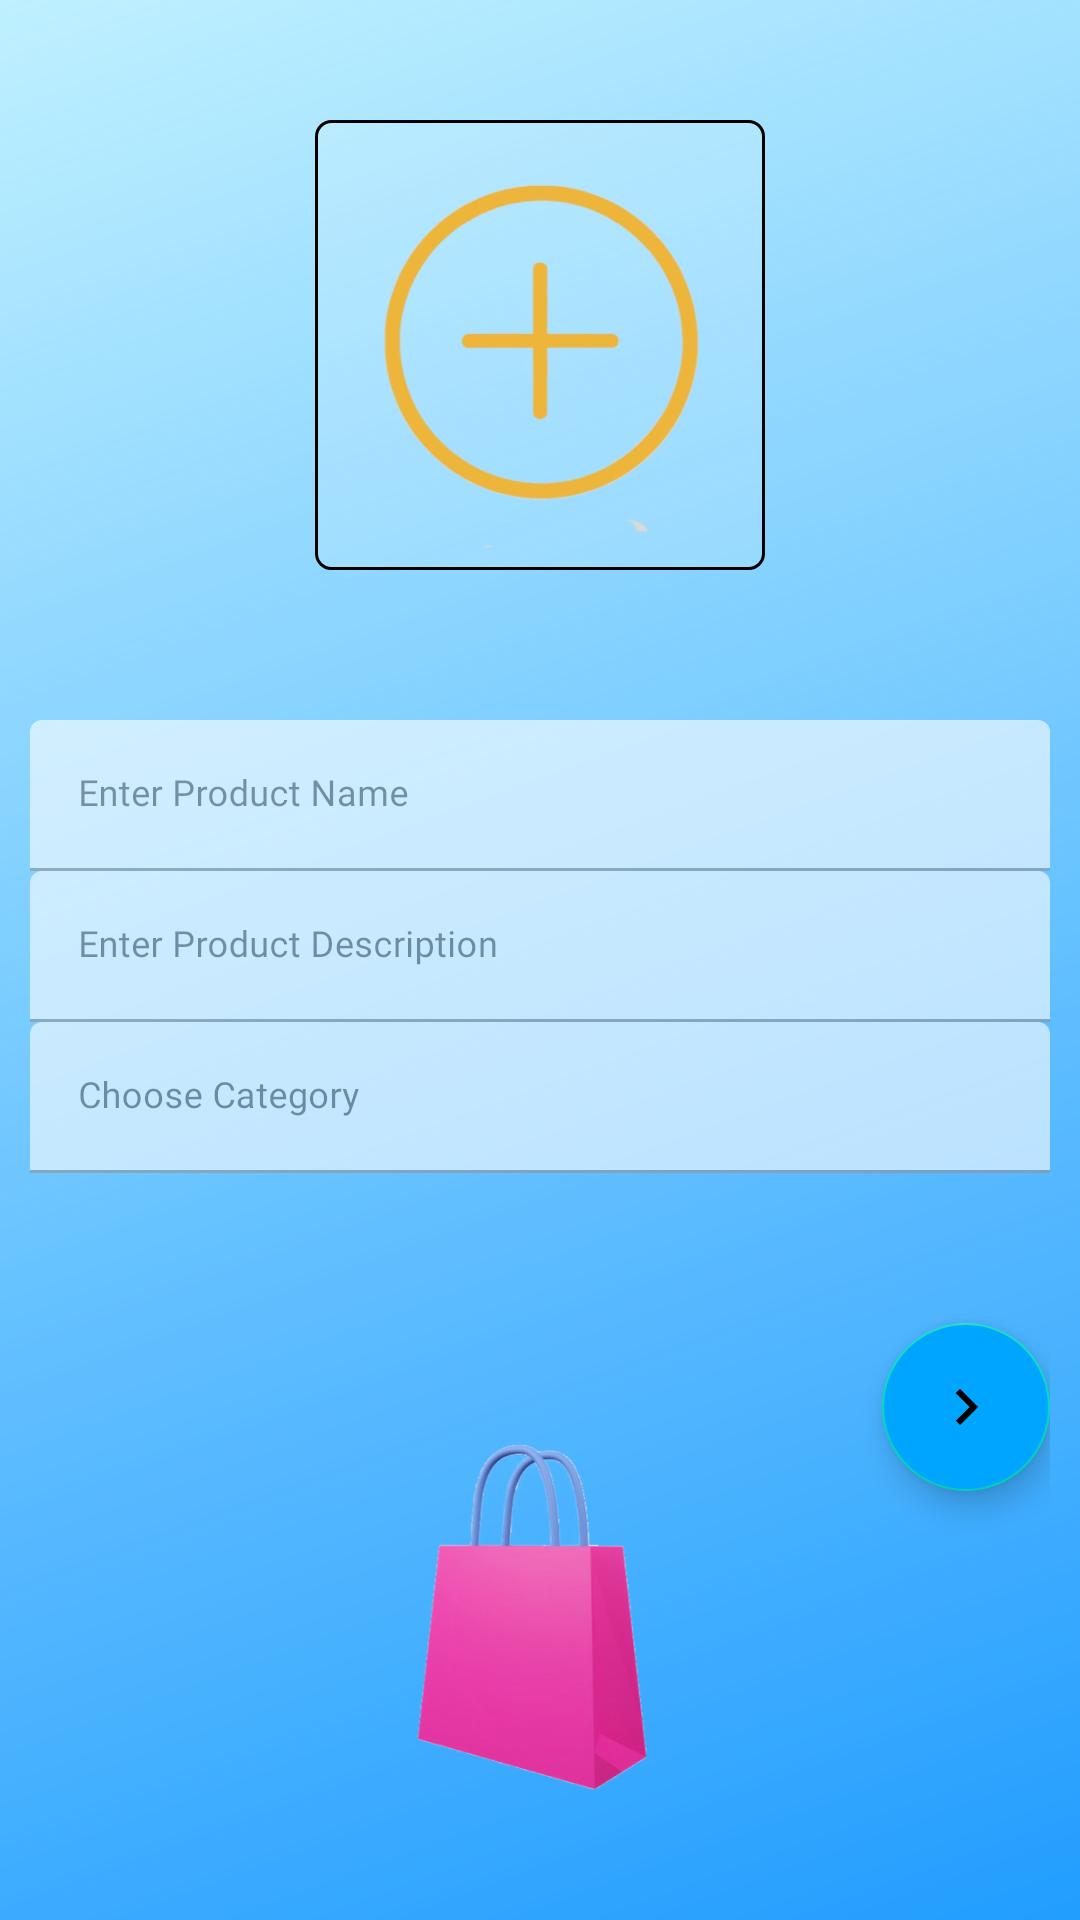

Named icons in this screenshot (1080px×1920px) and their bounding boxes, (x1=x1, y1=y1, x2=x2, y2=y2):
next: (x1=882, y1=1323, x2=1050, y2=1491)
